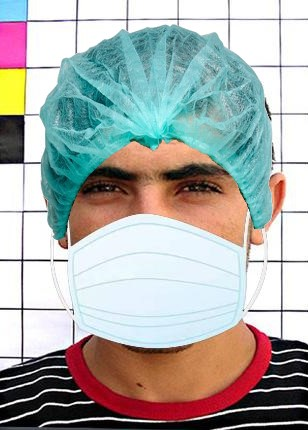with_mask_and_cap: (48, 29, 280, 352)
